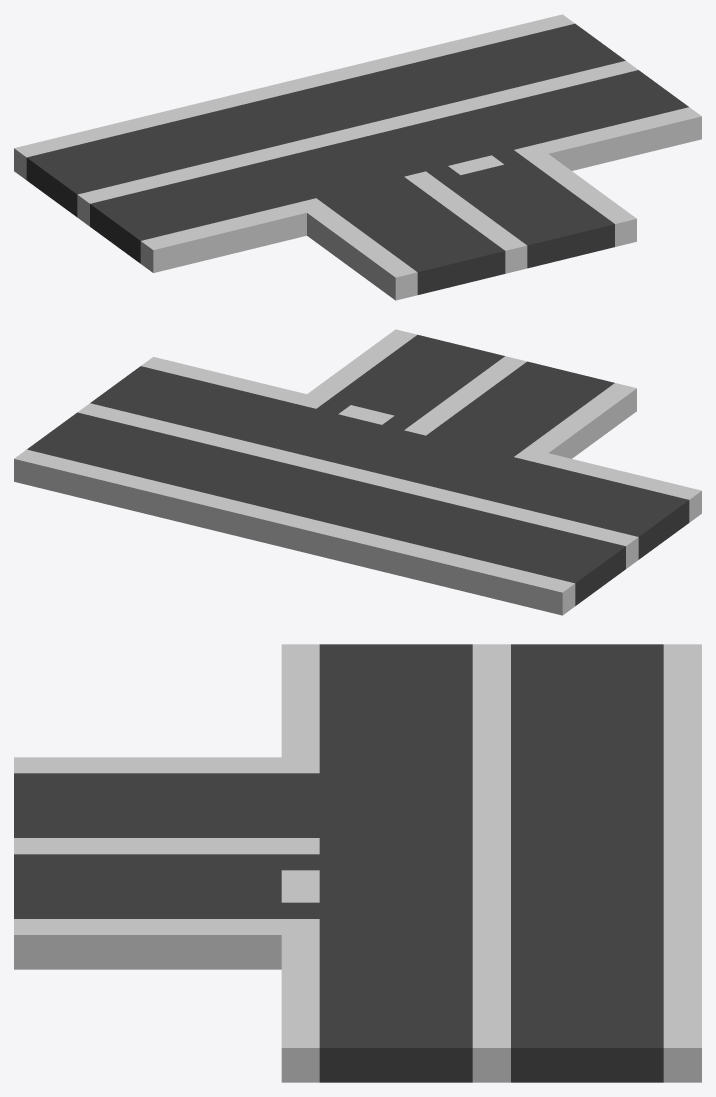
File: Straßesplit.obj
3 renders of one model, top to bottom at view 1: azimuth 30°, elevation 25°; view 2: azimuth 150°, elevation 25°; view 3: azimuth 270°, elevation 25°, orthographic. The views are drawn at different scales.
Size of the model in its own units: 5 by 0.2 by 3.6.
1 material, 1 textured.
